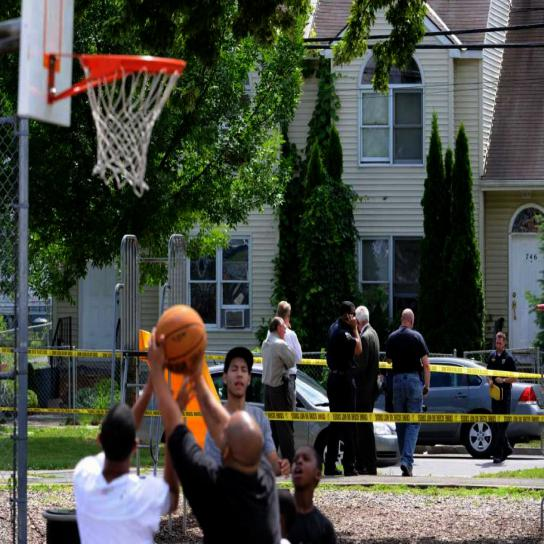basketball-hoop: (74, 50, 186, 197)
